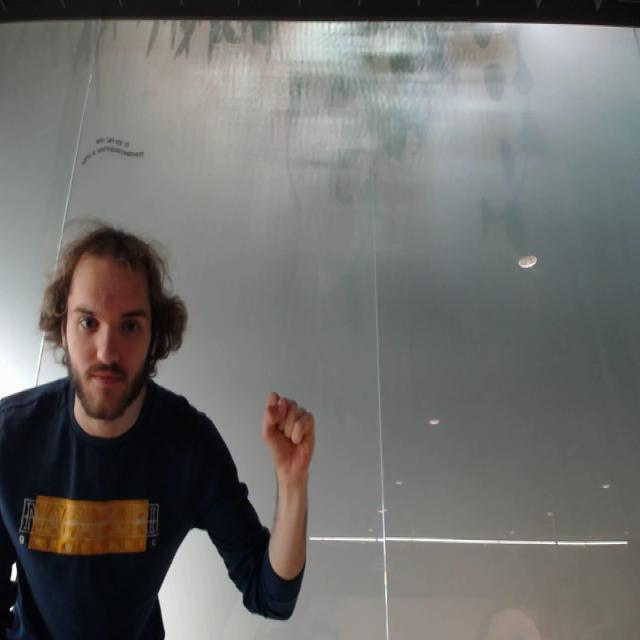stop: (259, 382, 322, 468)
